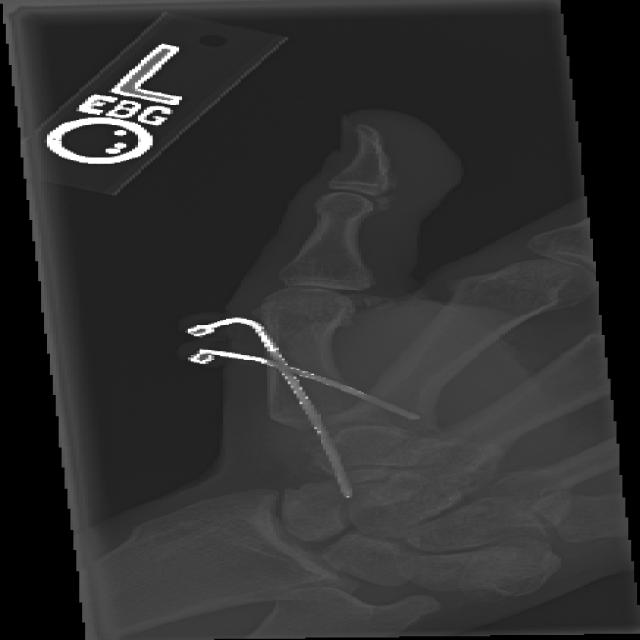fingers positive: (253, 373, 404, 438)
